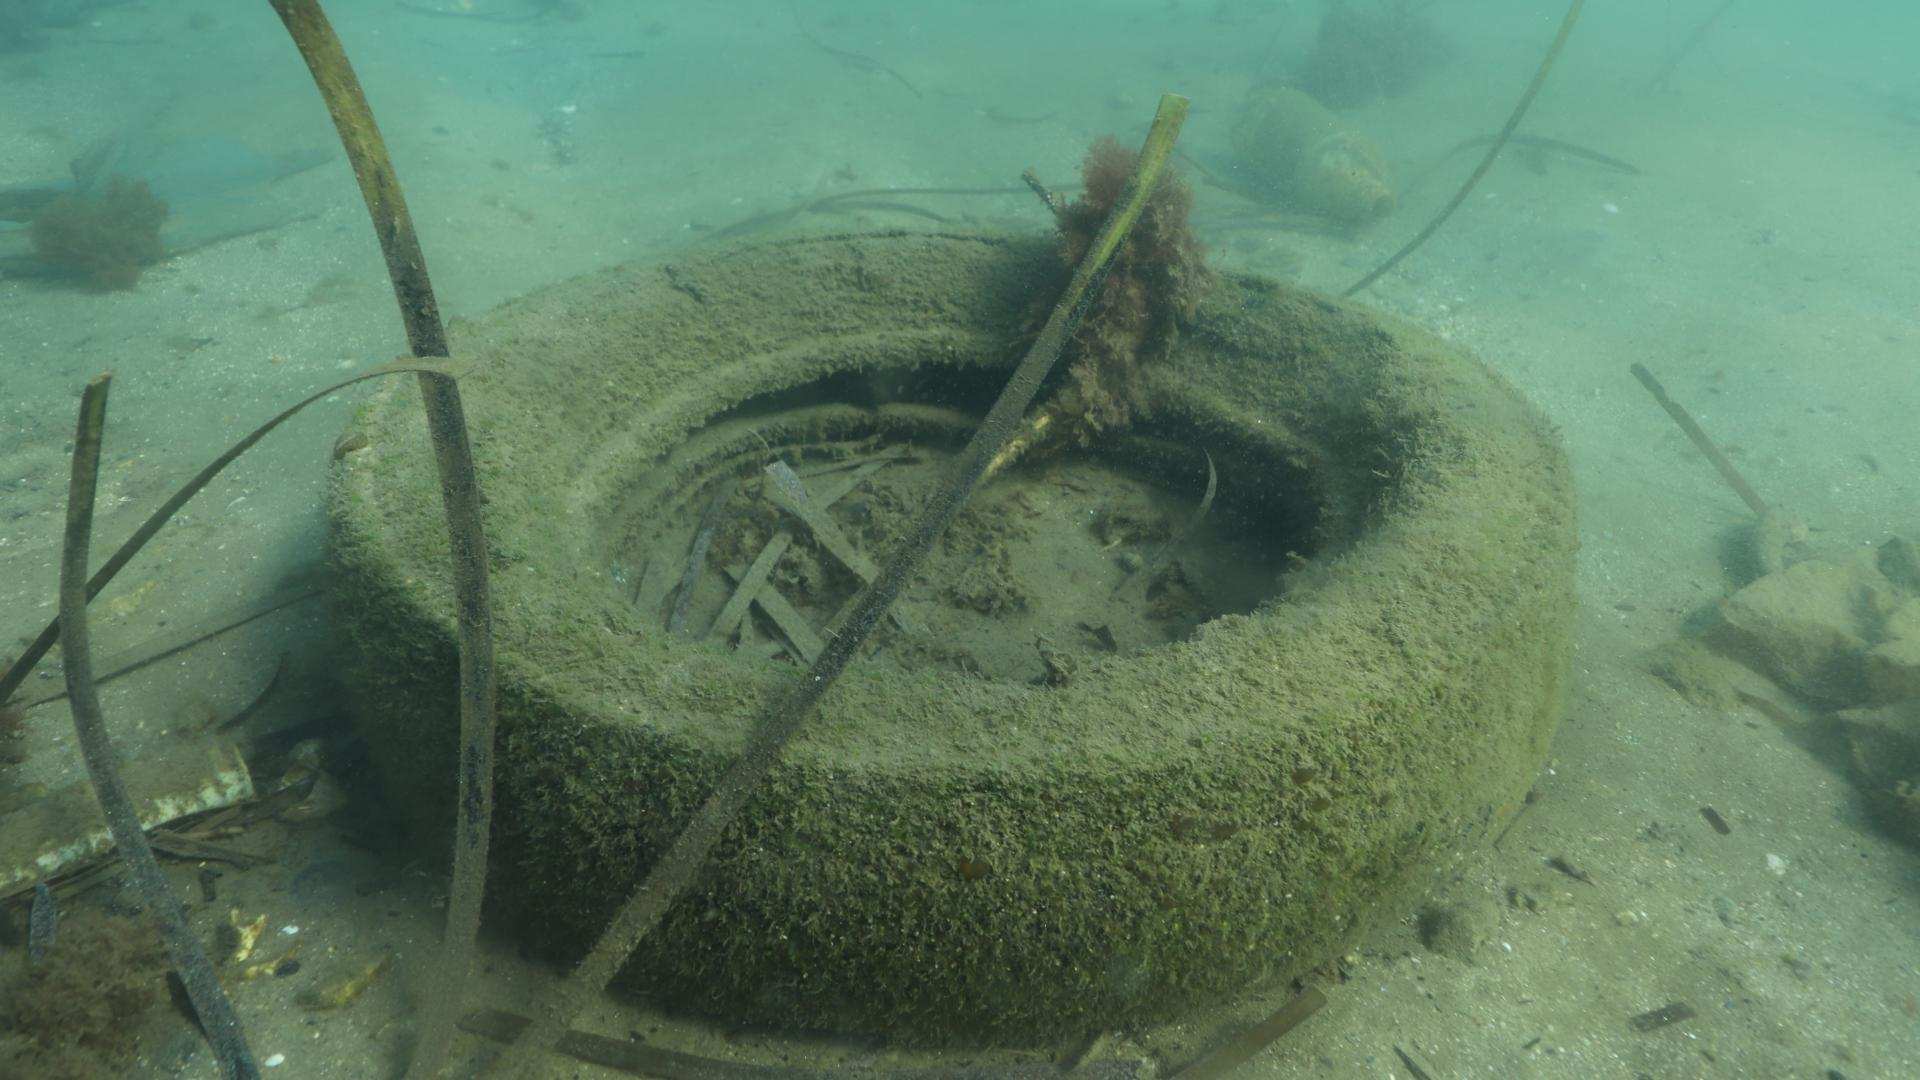tire: (316, 222, 1565, 1048)
